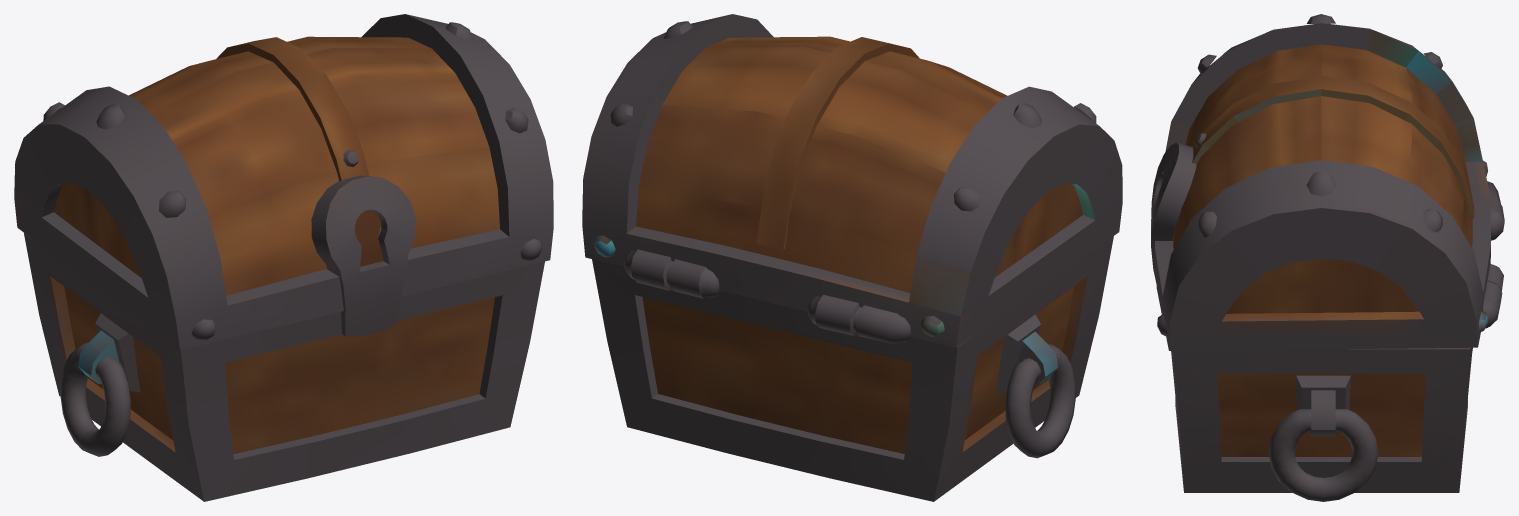
File: Chest.fbx
3 views of the same model, side by side, from view 1: azimuth 30°, elevation 25°; view 2: azimuth 150°, elevation 25°; view 3: azimuth 270°, elevation 25° (orthographic). The views are drawn at different scales.
Visible parts, largest first — view 1: Chest; view 2: Chest; view 3: Chest.
Part boxes in pixels (x1=…): Chest: x1=14, y1=14, x2=553, y2=501; Chest: x1=582, y1=14, x2=1122, y2=501; Chest: x1=1151, y1=14, x2=1504, y2=501.
Bounding box in the file's own units: 21.79 × 18.53 × 17.44.
